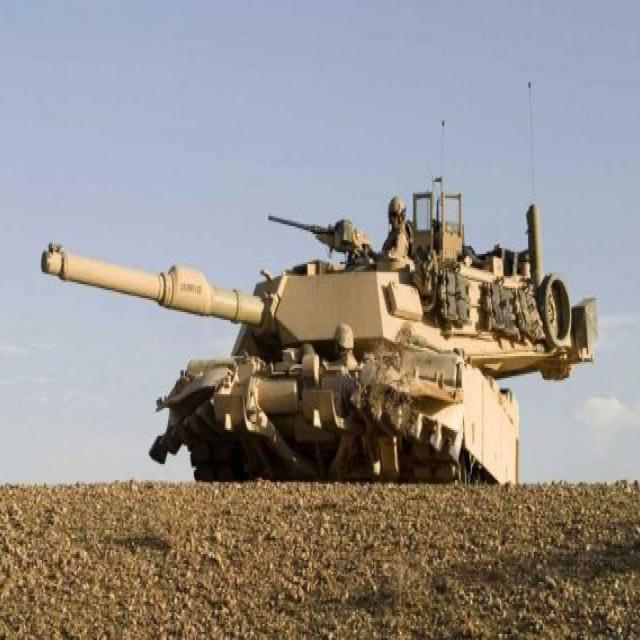Tanks: (131, 214, 581, 481)
